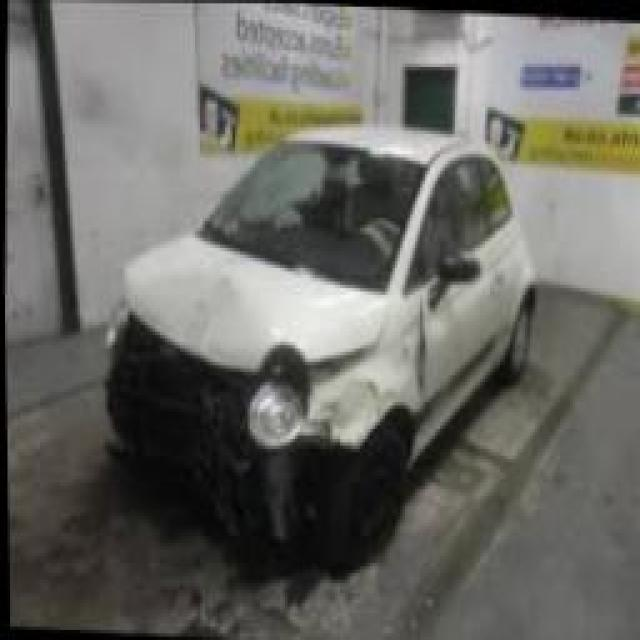Bumper: (103, 326, 295, 557)
Light: (230, 369, 321, 450)
